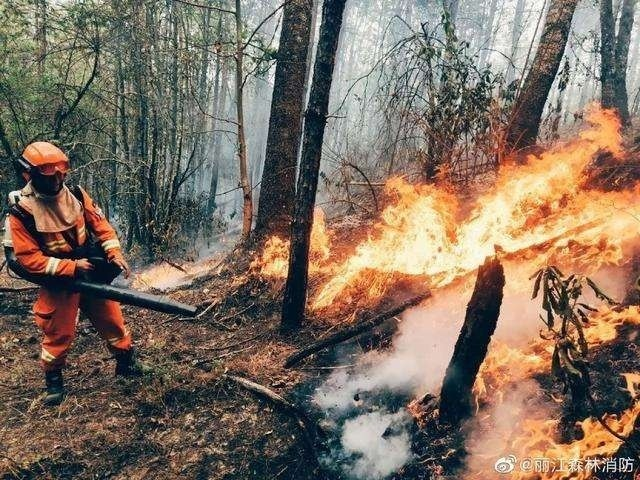fire: (284, 132, 640, 432), (129, 250, 222, 295)
